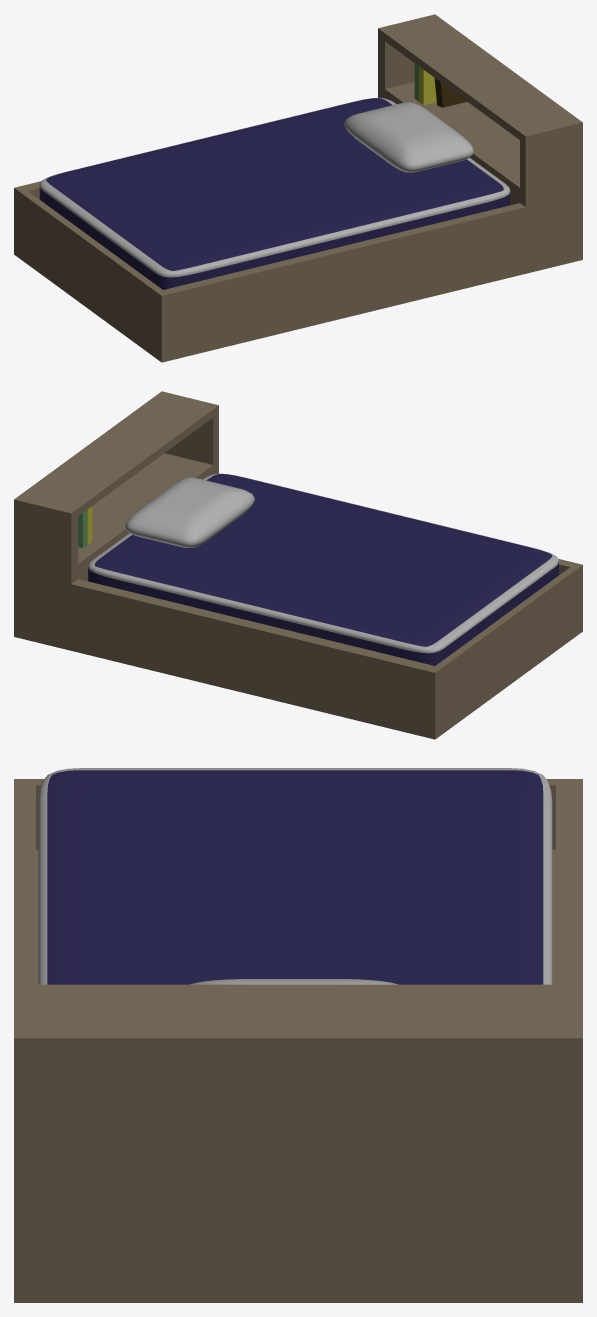
File: Bed.fbx
3 renders of one model, top to bottom at view 1: azimuth 30°, elevation 25°; view 2: azimuth 150°, elevation 25°; view 3: azimuth 270°, elevation 25°, orthographic. The views are drawn at different scales.
Parts seen in each view (by area): view 1: pCube161, pCube164, Pillow, Book2, Book3; view 2: pCube161, pCube164, Pillow; view 3: pCube161, pCube164, Pillow.
Boxes of the visible parts, bbox=[...] form: pCube161: bbox=[14, 14, 582, 362]; pCube164: bbox=[39, 97, 510, 289]; Pillow: bbox=[344, 102, 474, 172]; Book2: bbox=[419, 66, 436, 105]; Book3: bbox=[434, 78, 466, 107]; pCube161: bbox=[14, 391, 582, 739]; pCube164: bbox=[88, 473, 558, 665]; Pillow: bbox=[125, 477, 254, 547]; pCube161: bbox=[14, 779, 582, 1302]; pCube164: bbox=[38, 768, 552, 984]; Pillow: bbox=[189, 979, 398, 984].
Size of the model in its own units: 20.68 by 6.45 by 12.57.
